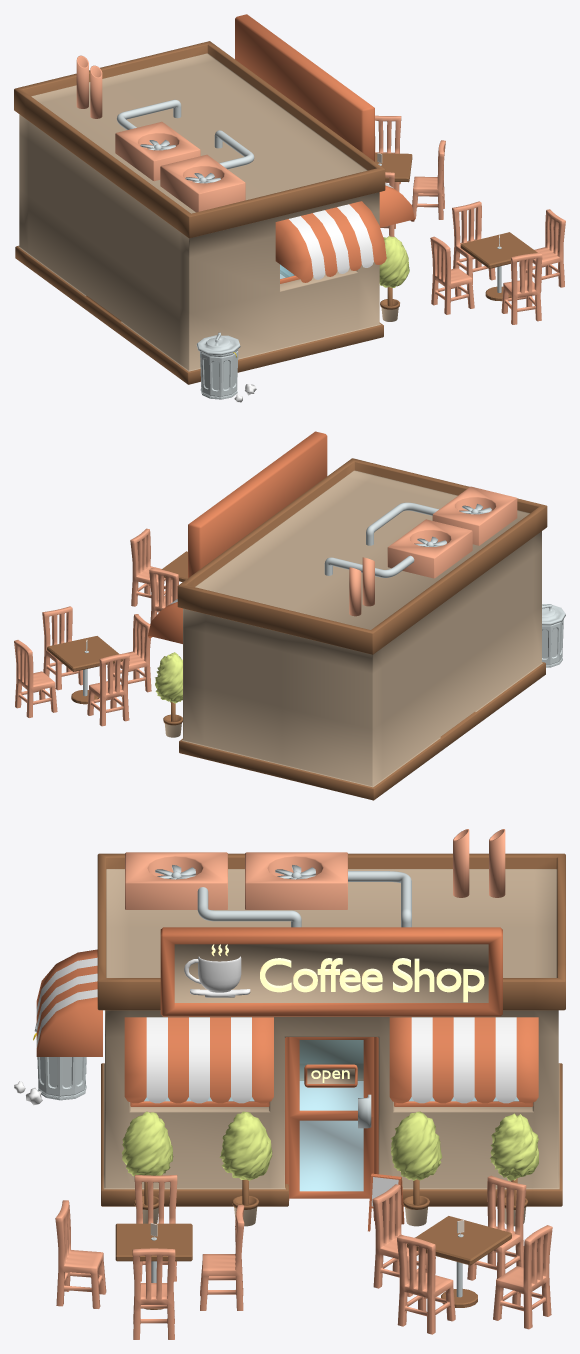
The model's file is coffee_shop.glb.
The picture shows the model from 3 angles, top to bottom: view 1: azimuth 30°, elevation 25°; view 2: azimuth 150°, elevation 25°; view 3: azimuth 270°, elevation 25°; orthographic projection. The views are drawn at different scales.
Visible parts, largest first — view 1: main_0, rainblock_4, logo_7, actop_27, actop.001_30, chair_43, chair.001_44, trash bin_61, chair.002_45, chair.003_46, table_40, tube_33 (+7 smaller); view 2: main_0, logo_7, actop.001_30, actop_27, chair.005_51, chair.006_52, chair.007_53, table.003_47, chair.003_46, chair.004_50, tube_33, tree.006_75 (+5 smaller); view 3: main_0, rainblock_4, logo_7, door_3, actop.001_30, actop_27, Text_8, chair.007_53, chair.006_52, chair.005_51, frames_1, chair.003_46 (+18 smaller).
Part boxes in pixels (<box>): main_0: <box>14,41,385,384</box>; rainblock_4: <box>275,182,414,282</box>; logo_7: <box>235,14,374,161</box>; actop_27: <box>160,154,245,212</box>; actop.001_30: <box>115,121,200,181</box>; chair_43: <box>501,252,542,324</box>; chair.001_44: <box>430,236,474,314</box>; trash bin_61: <box>200,349,238,399</box>; chair.002_45: <box>452,201,495,284</box>; chair.003_46: <box>524,209,565,292</box>; table_40: <box>460,232,537,268</box>; tube_33: <box>76,55,102,118</box>; main_0: <box>177,458,547,800</box>; logo_7: <box>188,431,327,577</box>; actop.001_30: <box>387,519,472,578</box>; actop_27: <box>432,486,517,545</box>; chair.005_51: <box>87,653,129,726</box>; chair.006_52: <box>14,640,57,717</box>; chair.007_53: <box>42,606,82,690</box>; table.003_47: <box>47,636,122,671</box>; chair.003_46: <box>130,528,172,612</box>; chair.004_50: <box>113,614,151,696</box>; tube_33: <box>349,557,374,616</box>; tree.006_75: <box>155,652,182,703</box>; main_0: <box>97,853,565,1206</box>; rainblock_4: <box>36,949,538,1103</box>; logo_7: <box>160,927,502,1016</box>; door_3: <box>289,1037,374,1198</box>; actop.001_30: <box>245,852,347,909</box>; actop_27: <box>125,852,227,909</box>; Text_8: <box>260,958,484,1002</box>; chair.007_53: <box>397,1235,455,1334</box>; chair.006_52: <box>493,1225,552,1329</box>; chair.005_51: <box>467,1175,526,1280</box>; frames_1: <box>130,1037,533,1200</box>; chair.003_46: <box>132,1248,175,1339</box>.
Bounding box in the file's own units: 5.58 × 2.94 × 5.09.
